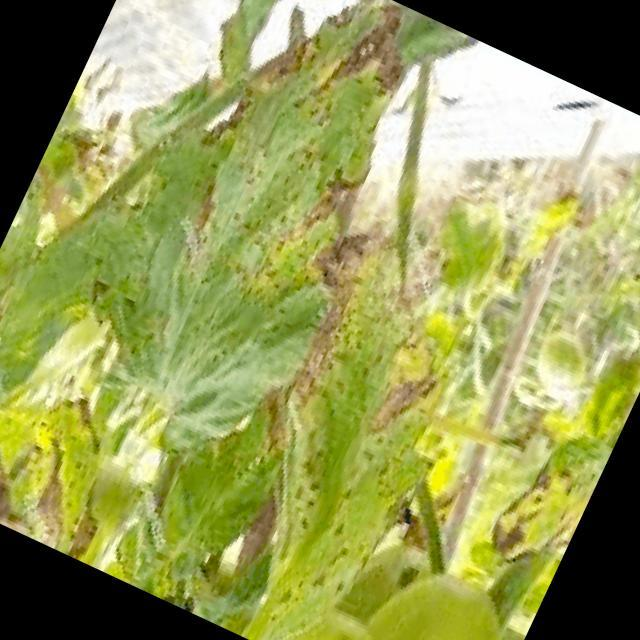Tomato bacterial spot leaf: (12, 0, 463, 500), (182, 230, 513, 640)
